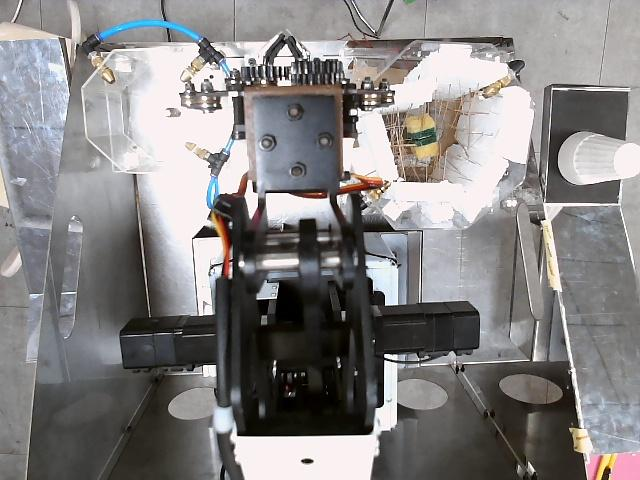cup: (559, 132, 639, 184)
